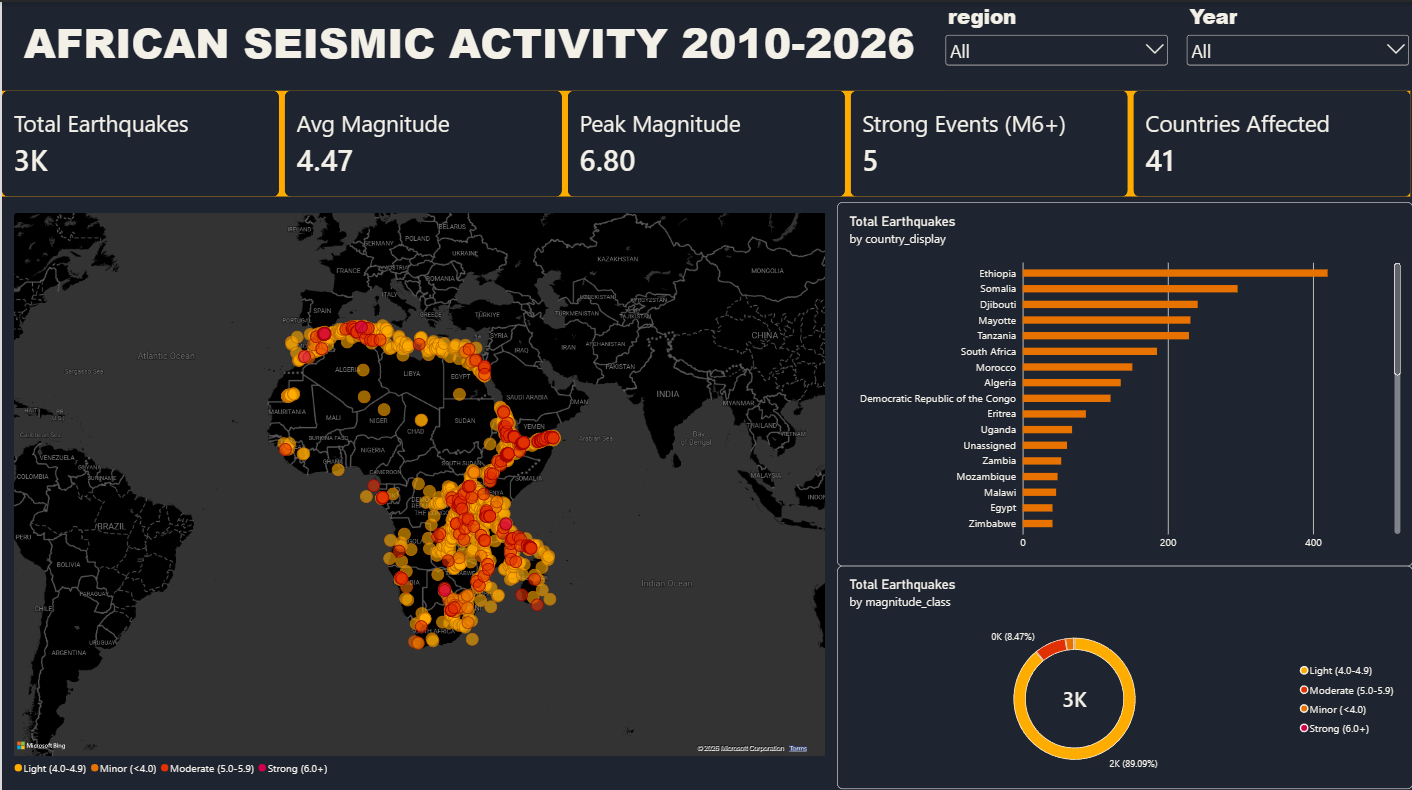

The dashboard page shown, as its layout file describes it:
{"tool":"powerbi","page":{"name":"Overview","canvas":[1920,1080],"ordinal":0},"visuals":[{"type":"cardVisual","fields":{"Data":["Earthquakes.Total Earthquakes","Earthquakes.Avg Magnitude","Earthquakes.Peak Magnitude","Earthquakes.Strong Events (M6+)","Earthquakes.Countries Affected"]},"box":[0,120,1920,144],"z":0},{"type":"map","fields":{"Series":["Earthquakes.magnitude_class"],"X":["Earthquakes.longitude"],"Y":["Earthquakes.latitude"]},"box":[0,272,1136,800],"z":1000},{"type":"slicer","fields":{"Values":["Date.Year"]},"box":[1608,0,312,120],"z":2000},{"type":"slicer","fields":{"Values":["Earthquakes.region"]},"box":[1280,0,312,120],"z":3000},{"type":"textbox","box":[0,0,1272,120],"z":4000},{"type":"barChart","fields":{"Category":["Earthquakes.country_display"],"Y":["Earthquakes.Total Earthquakes"]},"box":[1136,272,784,496],"z":4001},{"type":"donutChart","fields":{"Category":["Earthquakes.magnitude_class"],"Y":["Earthquakes.Total Earthquakes"]},"box":[1136,768,784,304],"z":4002}]}

Visuals, with their boxes in screenshot pixels (x1, y1, x2, y2), scaled from the page's 1920x1080 canvas onto the 1412x790 screenshot:
cardVisual - Earthquakes.Total Earthquakes x Earthquakes.Avg Magnitude: locate(0, 88, 1411, 193)
map - Earthquakes.magnitude_class x Earthquakes.longitude: locate(0, 199, 835, 784)
slicer - Date.Year: locate(1183, 0, 1411, 88)
slicer - Earthquakes.region: locate(941, 0, 1171, 88)
textbox: locate(0, 0, 935, 88)
barChart - Earthquakes.country_display x Earthquakes.Total Earthquakes: locate(835, 199, 1411, 562)
donutChart - Earthquakes.magnitude_class x Earthquakes.Total Earthquakes: locate(835, 562, 1411, 784)
